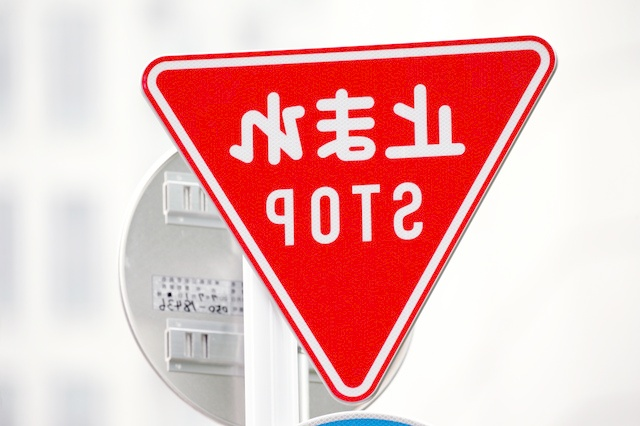Regulatory_sign_triangle: (125, 28, 571, 418)
